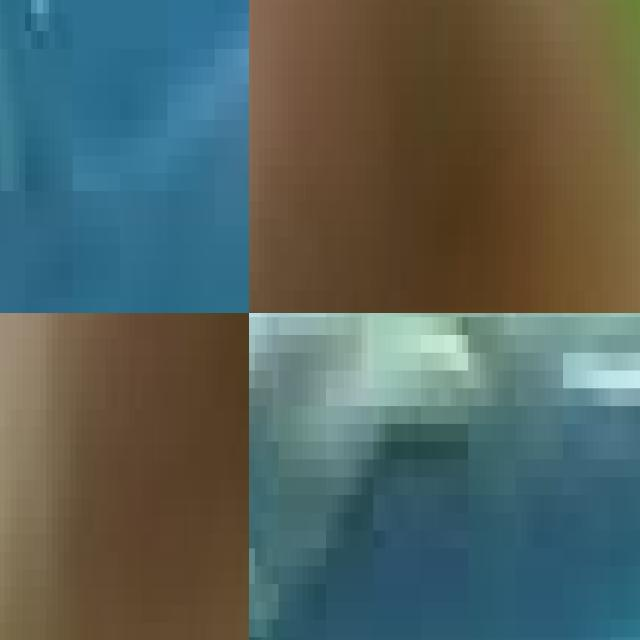fish: (249, 313, 640, 640), (0, 0, 249, 313)
